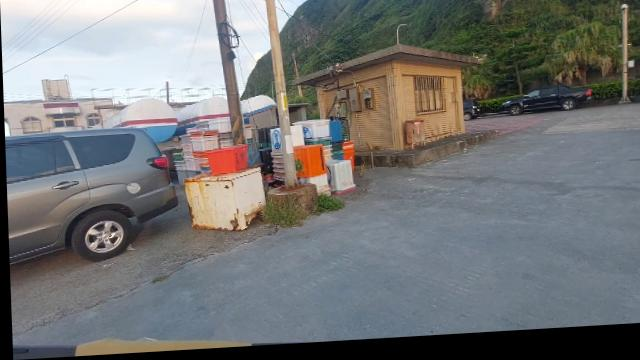pollute: (183, 172, 266, 236), (291, 124, 353, 199), (291, 149, 331, 202), (204, 149, 245, 176), (266, 131, 284, 187), (342, 145, 354, 169)
